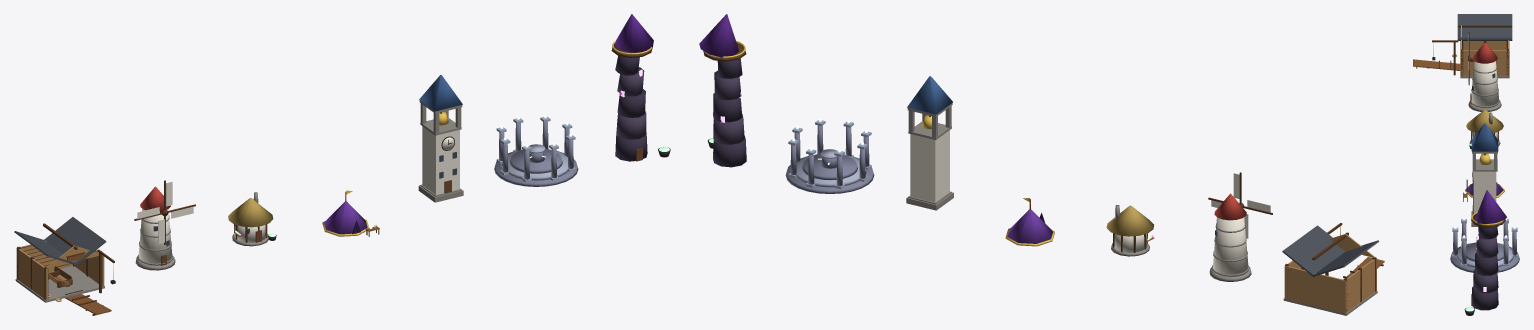
File: build.glb
3 views of the same model, side by side, from view 1: azimuth 30°, elevation 25°; view 2: azimuth 150°, elevation 25°; view 3: azimuth 270°, elevation 25° (orthographic). The views are drawn at different scales.
Visible parts, largest first — view 1: shipyard, belltower, witch_tower, altar, windmill.001, alchemist_hut, appraiser_tent, blades; view 2: shipyard, belltower, witch_tower, altar, windmill.001, alchemist_hut, appraiser_tent, blades; view 3: shipyard, witch_tower, belltower, windmill.001, altar, alchemist_hut, appraiser_tent, blades.
Boxes of the visible parts, x1=… form: shipyard: x1=14, y1=217, x2=115, y2=315; belltower: x1=418, y1=75, x2=463, y2=202; witch_tower: x1=611, y1=14, x2=670, y2=161; altar: x1=494, y1=115, x2=578, y2=186; windmill.001: x1=135, y1=186, x2=175, y2=270; alchemist_hut: x1=228, y1=192, x2=276, y2=246; appraiser_tent: x1=322, y1=190, x2=379, y2=236; blades: x1=134, y1=180, x2=195, y2=244; shipyard: x1=1282, y1=223, x2=1384, y2=315; belltower: x1=906, y1=76, x2=953, y2=210; witch_tower: x1=699, y1=14, x2=746, y2=167; altar: x1=785, y1=118, x2=874, y2=193; windmill.001: x1=1209, y1=193, x2=1251, y2=281; alchemist_hut: x1=1106, y1=205, x2=1154, y2=256; appraiser_tent: x1=1005, y1=198, x2=1054, y2=246; blades: x1=1208, y1=172, x2=1272, y2=238; shipyard: x1=1413, y1=14, x2=1512, y2=78; witch_tower: x1=1464, y1=190, x2=1506, y2=315; belltower: x1=1471, y1=123, x2=1498, y2=226; windmill.001: x1=1468, y1=43, x2=1501, y2=111; altar: x1=1450, y1=217, x2=1519, y2=272; alchemist_hut: x1=1466, y1=110, x2=1503, y2=149; appraiser_tent: x1=1463, y1=179, x2=1504, y2=201; blades: x1=1468, y1=31, x2=1470, y2=85.
Bounding box in the file's own units: 159 × 34.84 × 28.17.
